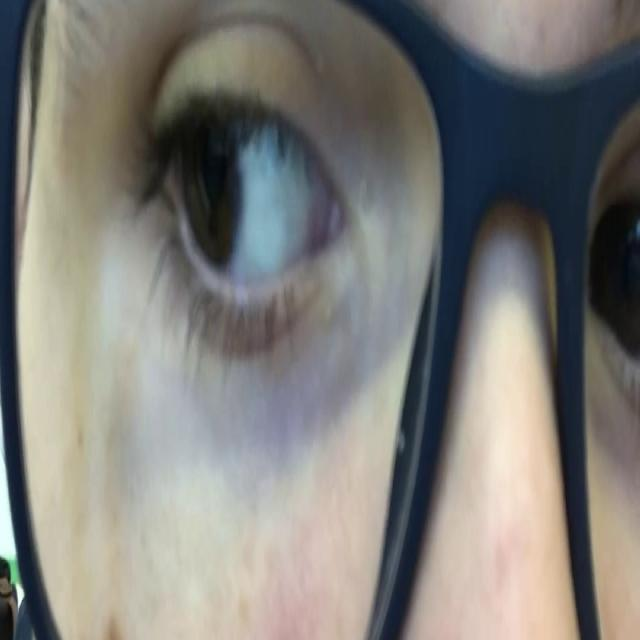eye: (130, 23, 366, 378)
gaze: (171, 96, 245, 286)
